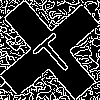T: (25, 25, 78, 79)
